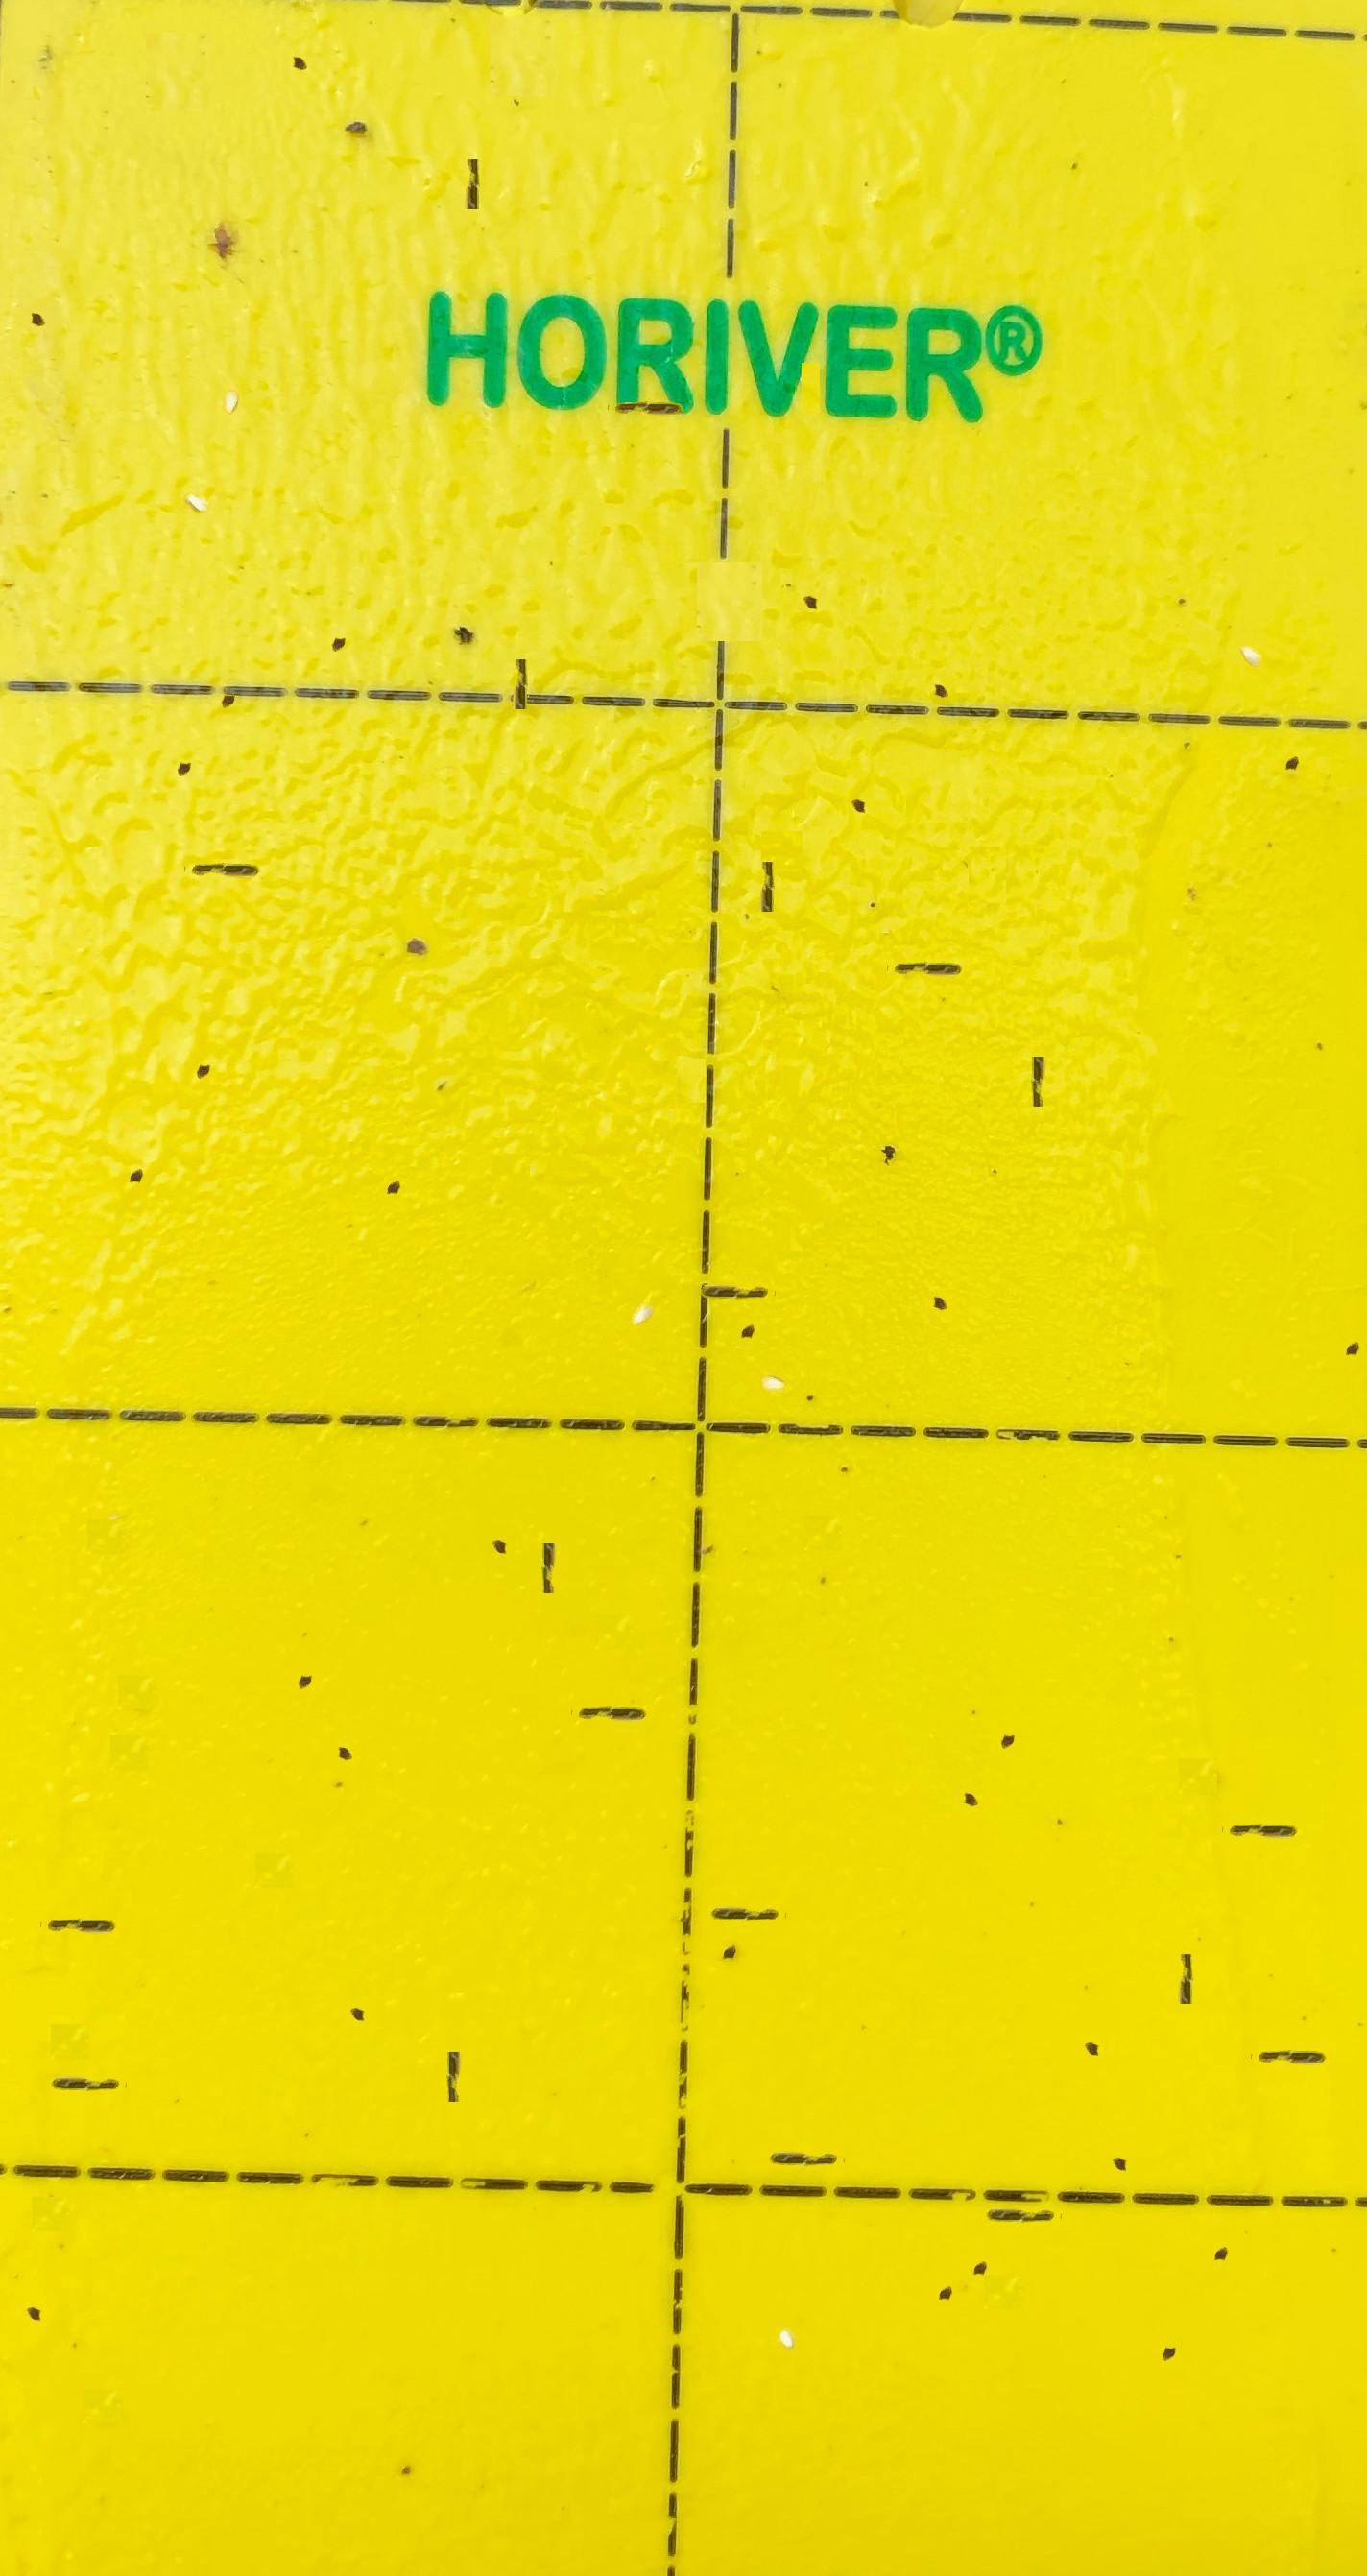white_fly: (765, 2266, 808, 2314), (179, 434, 222, 479), (1231, 593, 1273, 635), (622, 1249, 665, 1291), (211, 344, 254, 382), (752, 1325, 793, 1363)
